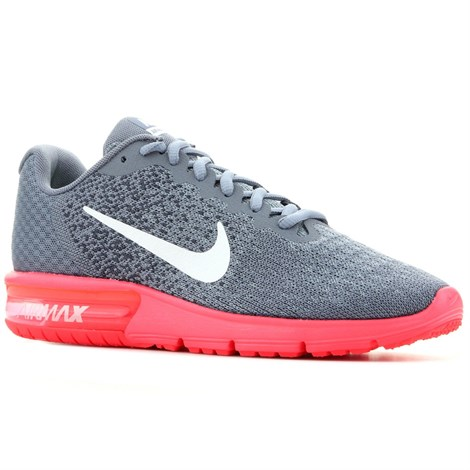nike: (83, 198, 233, 286)
